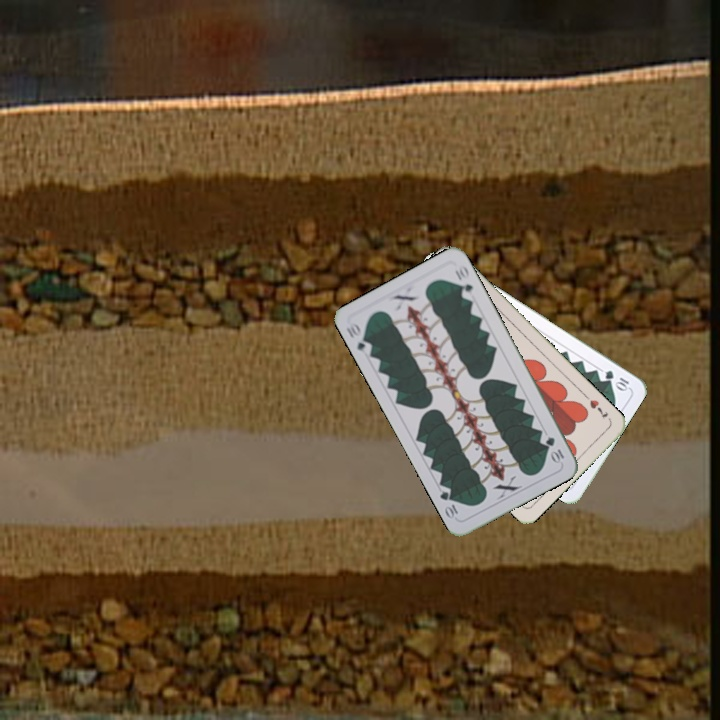G10: (342, 318, 375, 354), (601, 366, 632, 393), (542, 433, 567, 466)
H7: (586, 396, 611, 421)
